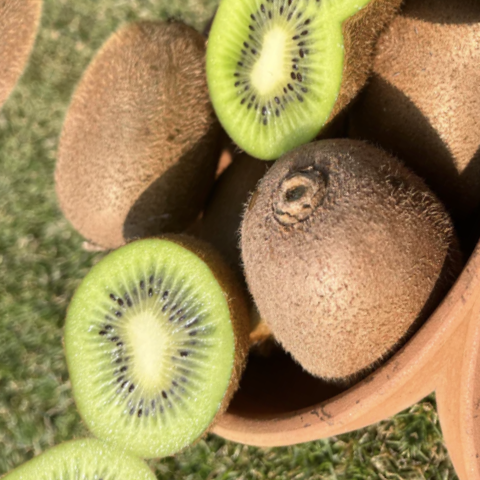kiwi: (157, 79, 480, 424), (6, 0, 277, 304)
